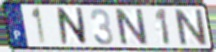1: (153, 8, 172, 47), (31, 5, 47, 46)
3: (89, 7, 115, 46)
N: (112, 7, 151, 46), (172, 8, 210, 47), (55, 7, 89, 46)
